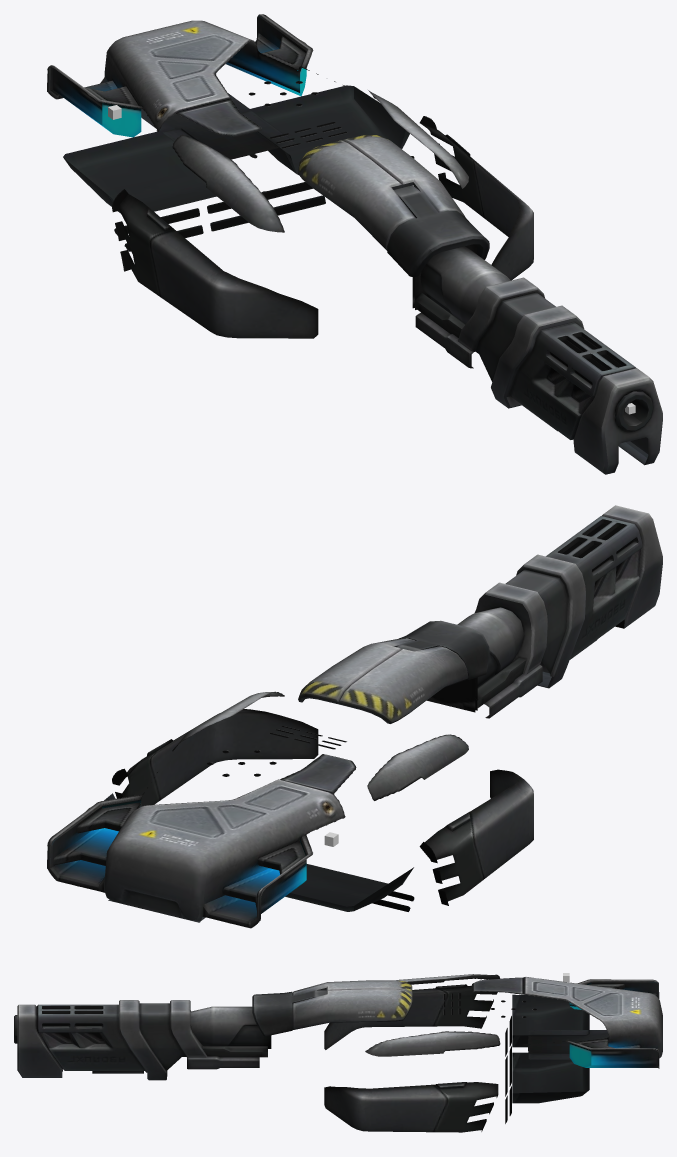
Rendered from Thunder_Standart.fbx.
3 views of the same model, one above another, from view 1: azimuth 30°, elevation 25°; view 2: azimuth 150°, elevation 25°; view 3: azimuth 270°, elevation 25° (orthographic). The views are drawn at different scales.
Parts seen in each view (by area): view 1: turret; view 2: turret; view 3: turret.
Part boxes in pixels (left/top/right/bottom): turret: left=47, top=14, right=662, bottom=474; turret: left=47, top=505, right=662, bottom=928; turret: left=14, top=974, right=662, bottom=1132.
Bounding box in the file's own units: 2.41 × 1.04 × 6.04.
